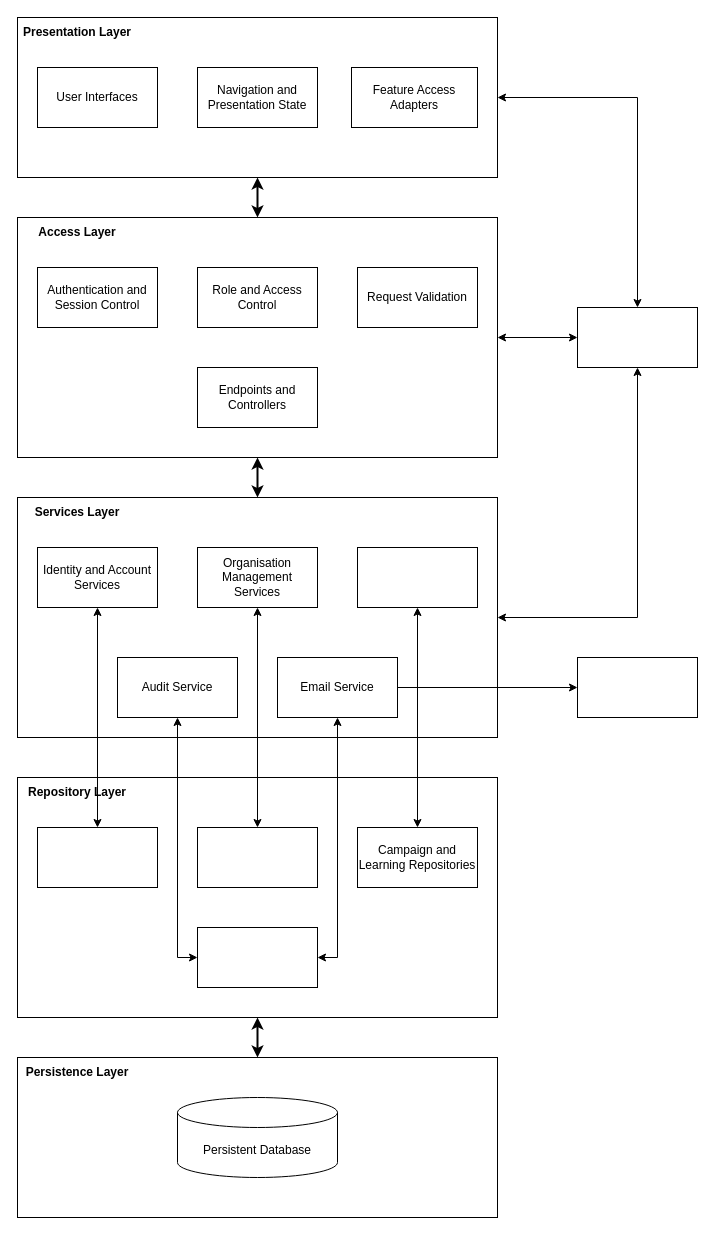
Image size: 715x1235. Some labels were removed from this diagram. Here are the shapes that lost their labels. From the top down, the centre of each, then its label:
At pixel 637 337: "Shared Contracts and Validation".
At pixel 417 577: "Campaign and Learning Services".
At pixel 637 687: "External Mail Server".
At pixel 97 857: "Identity and Account Repositories".
At pixel 257 857: "Organisation Repositories".
At pixel 257 957: "Audit and Delivery Repositories".
